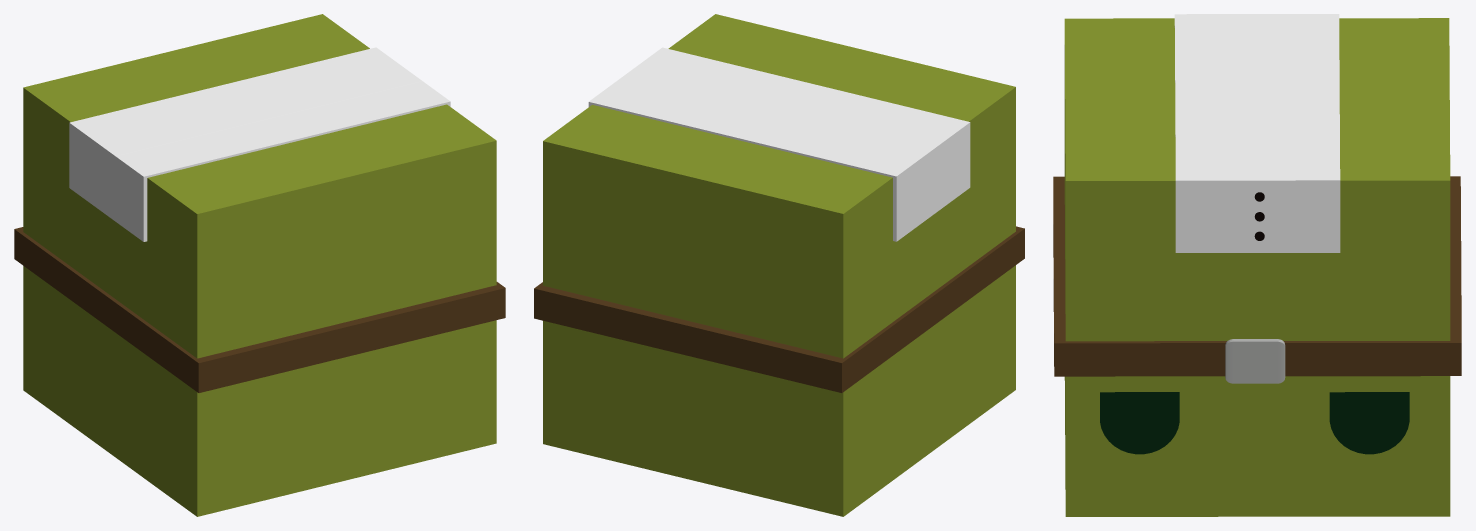
Rendered from body_2.fbx.
3 views of the same model, side by side, from view 1: azimuth 30°, elevation 25°; view 2: azimuth 150°, elevation 25°; view 3: azimuth 270°, elevation 25° (orthographic). The views are drawn at different scales.
Parts seen in each view (by area): view 1: Cube.017, Cube.019, Cube.020; view 2: Cube.017, Cube.019, Cube.020; view 3: Cube.017, Cube.019, Cube.020, Cylinder.004, Cylinder.003, Cube.021.
Part boxes in pixels (x1,y1,x2,y2): Cube.017: (23, 14, 496, 516); Cube.019: (69, 47, 450, 241); Cube.020: (14, 227, 505, 392); Cube.017: (543, 14, 1015, 516); Cube.019: (588, 47, 970, 241); Cube.020: (534, 226, 1024, 392); Cube.017: (1064, 18, 1450, 516); Cube.019: (1174, 14, 1340, 252); Cube.020: (1053, 176, 1461, 376); Cylinder.004: (1329, 392, 1409, 454); Cylinder.003: (1100, 392, 1179, 454); Cube.021: (1225, 339, 1285, 383).
Bounding box in the file's own units: 316 × 294 × 322.
